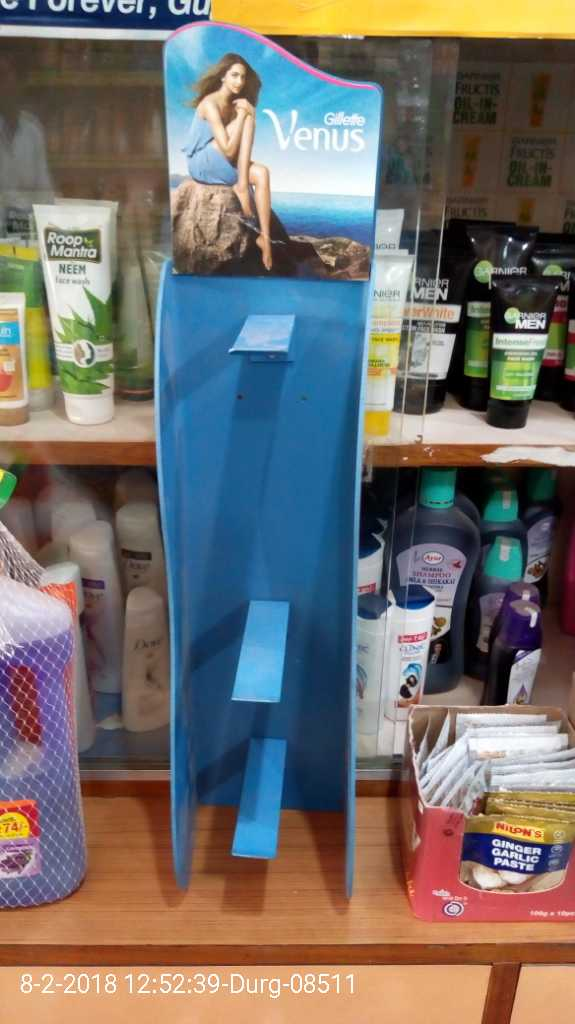reject: (174, 408, 233, 489)
